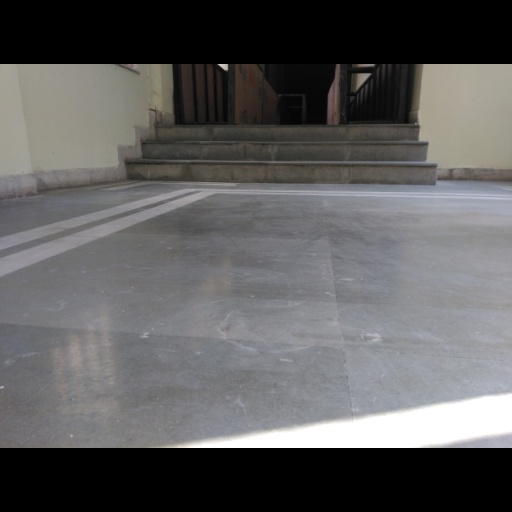Stairs: (126, 124, 437, 184)
